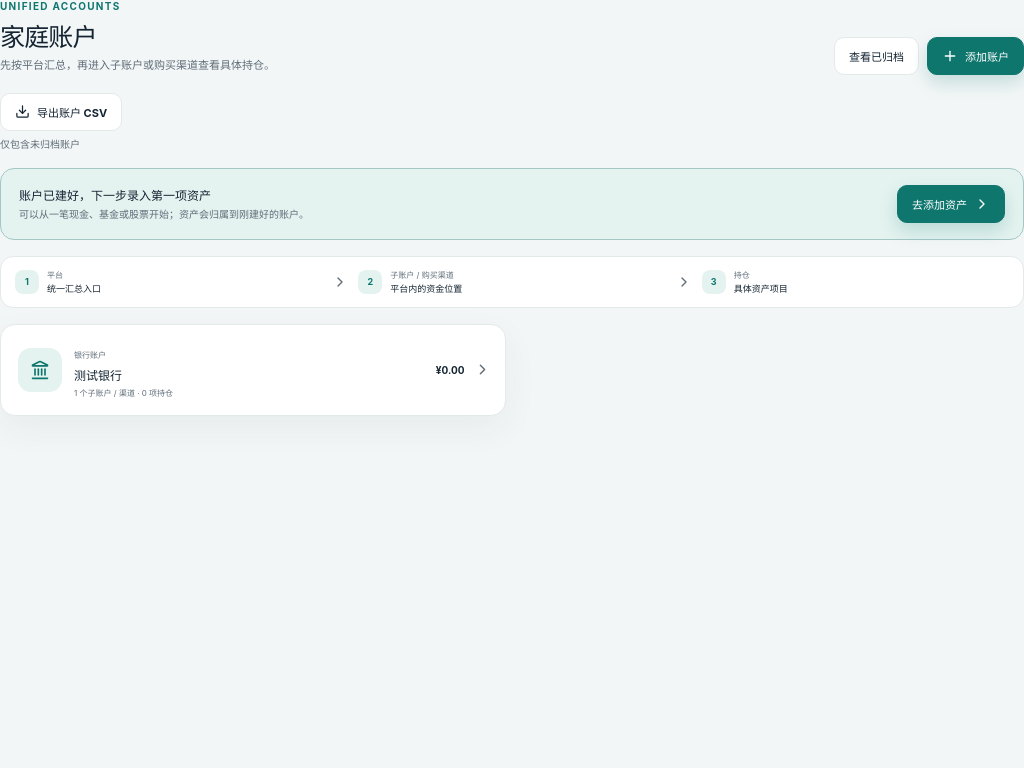
Test case: account edit feedback › announces a conflict and keeps focus on the submit control while saving
Click the button "银行账户 测试银行 1 个子账户 / 渠道 · 0 项持仓 ¥0.00". click: (40, 370)
box: left=0, top=324, right=506, bottom=416
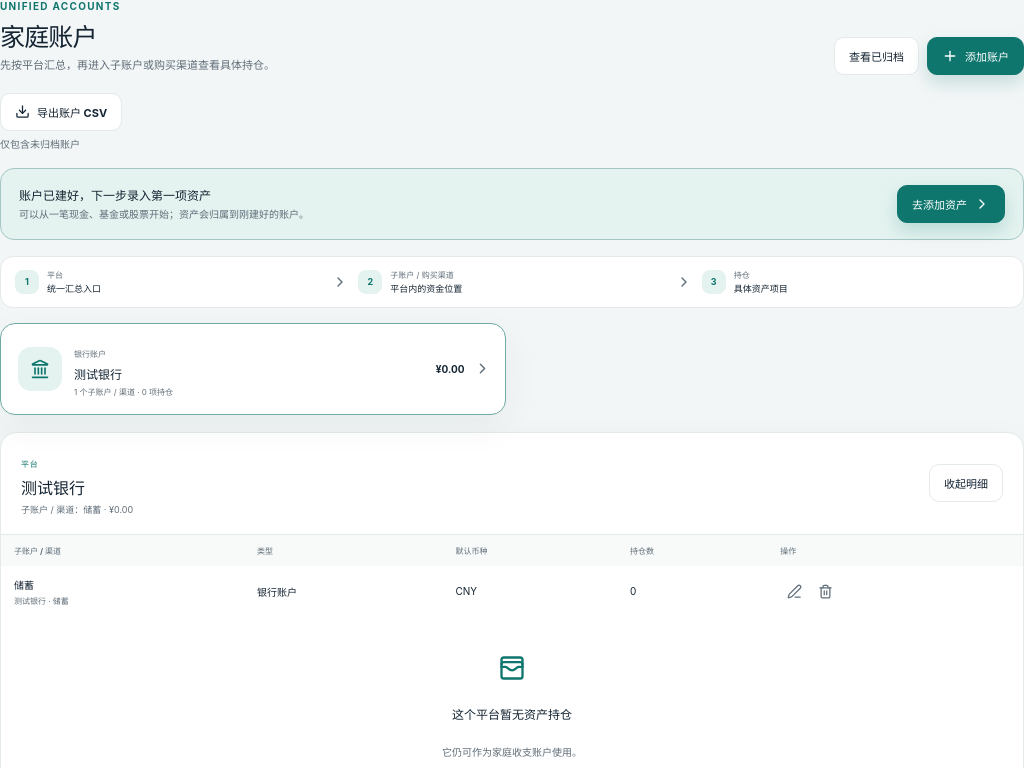
Click the button named "修改 测试银行 · 储蓄". click: (794, 591)
box: left=780, top=577, right=808, bottom=605
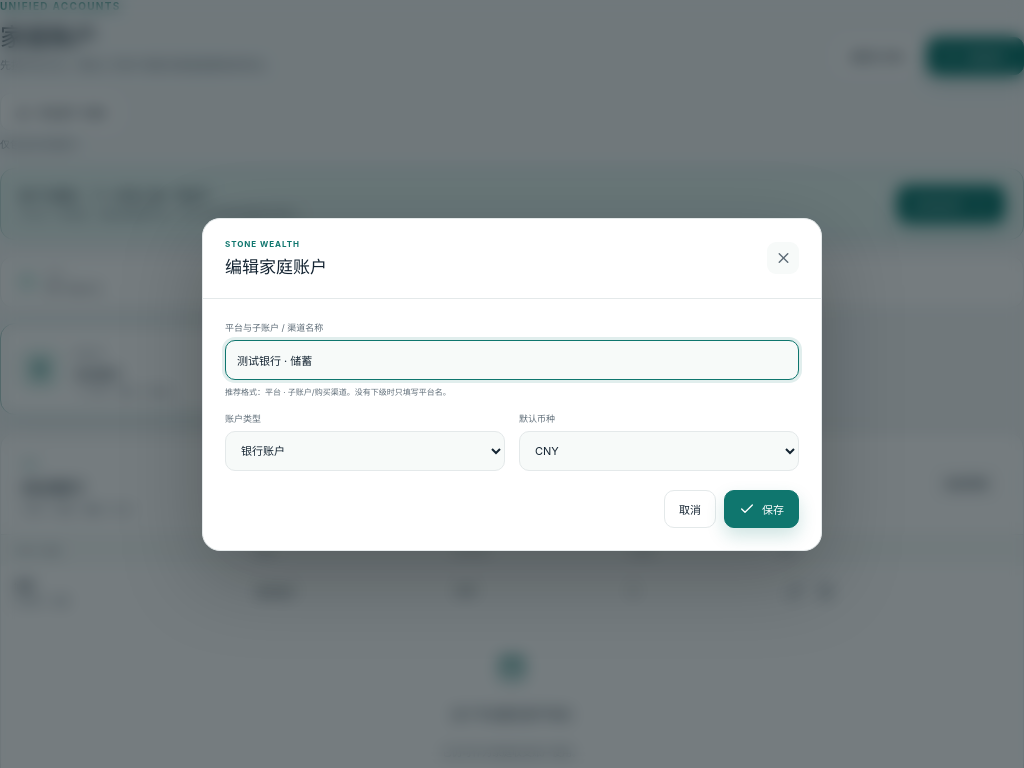
Replace the text in the field with "重复账户". click: (512, 360)
box: left=225, top=340, right=799, bottom=380
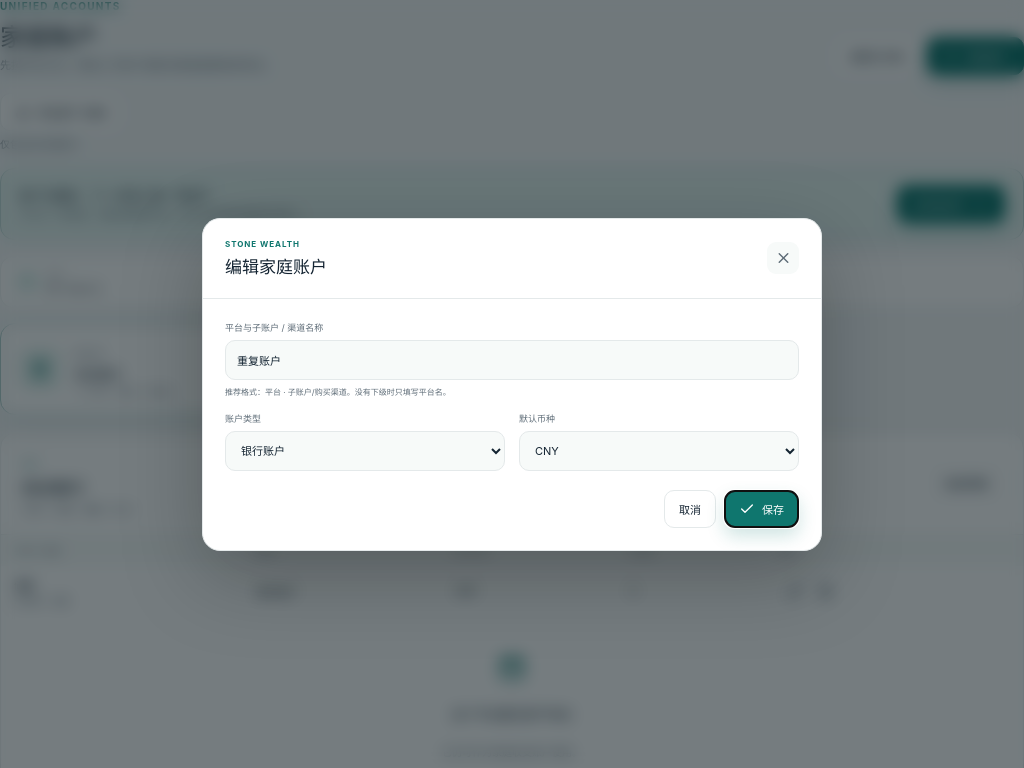
Click the button "保存". click: (762, 508)
box: left=724, top=490, right=799, bottom=528
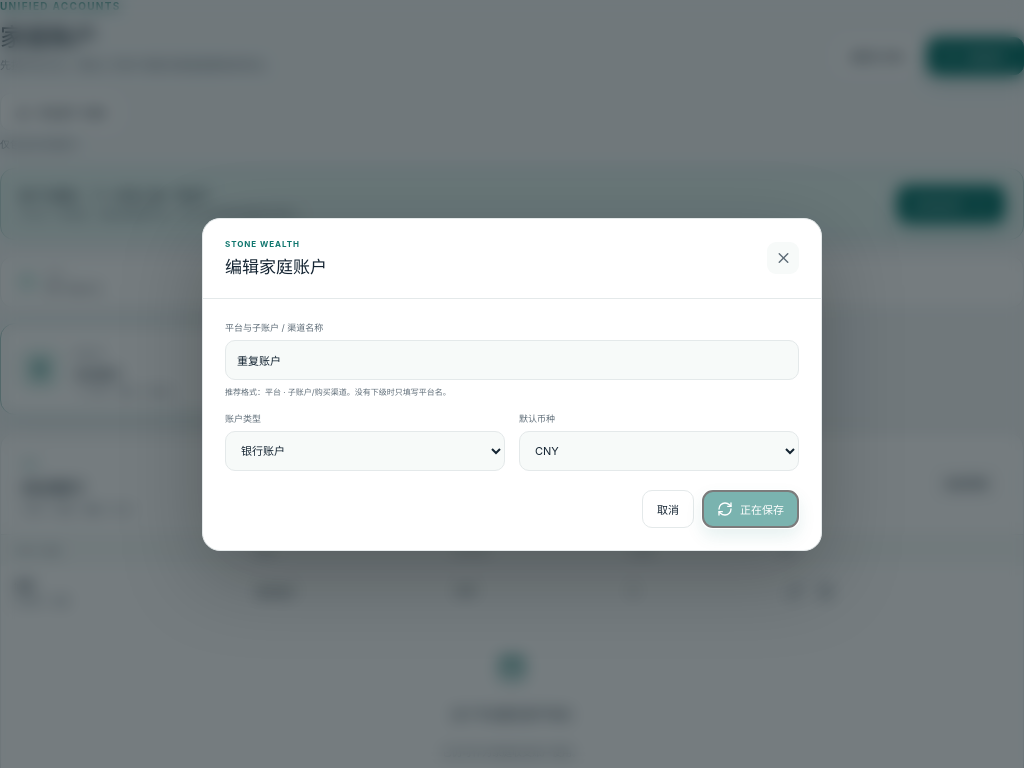
expect the button "正在保存" is disabled: met
Click the button "正在保存". click: (750, 508)
box: left=702, top=490, right=799, bottom=528
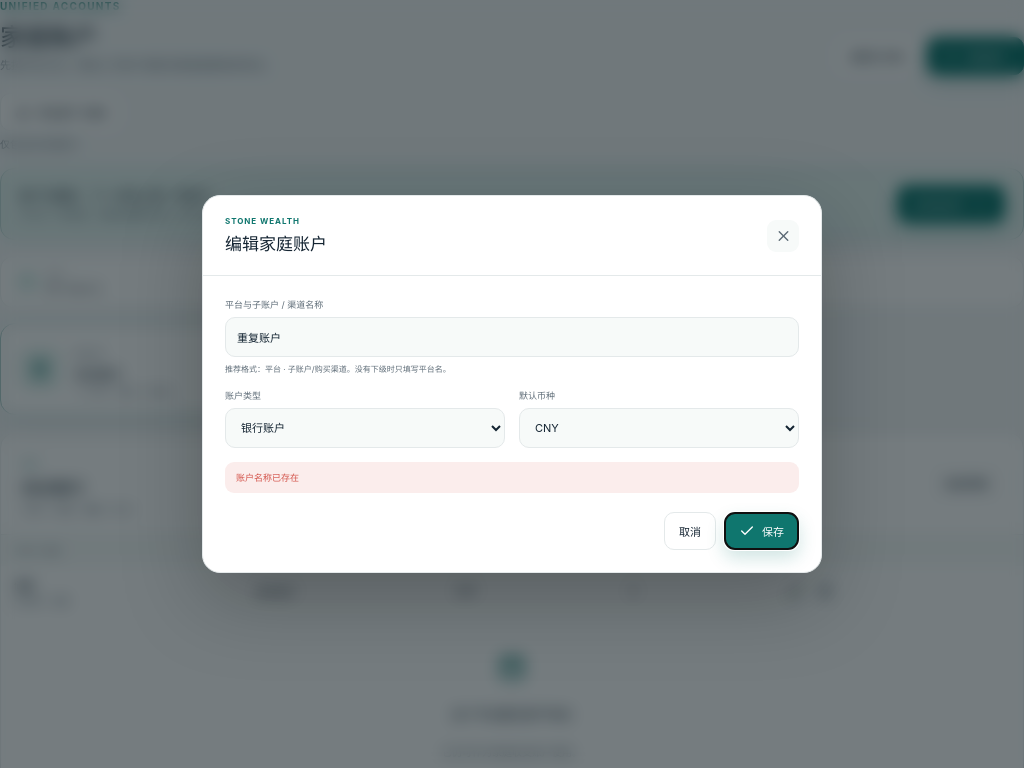
expect the message reads "账户名称已存在": met, box left=236, top=472, right=299, bottom=483
